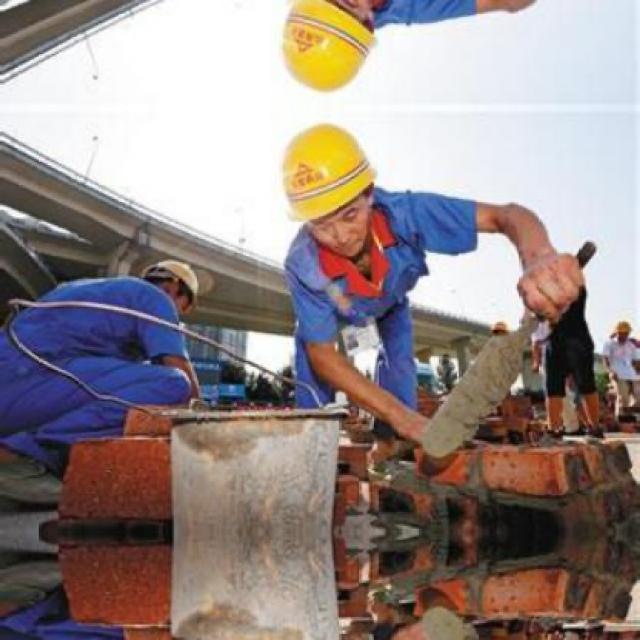helmet: (271, 111, 389, 261), (271, 0, 391, 106), (145, 253, 203, 311), (489, 316, 514, 339), (612, 318, 631, 342)
